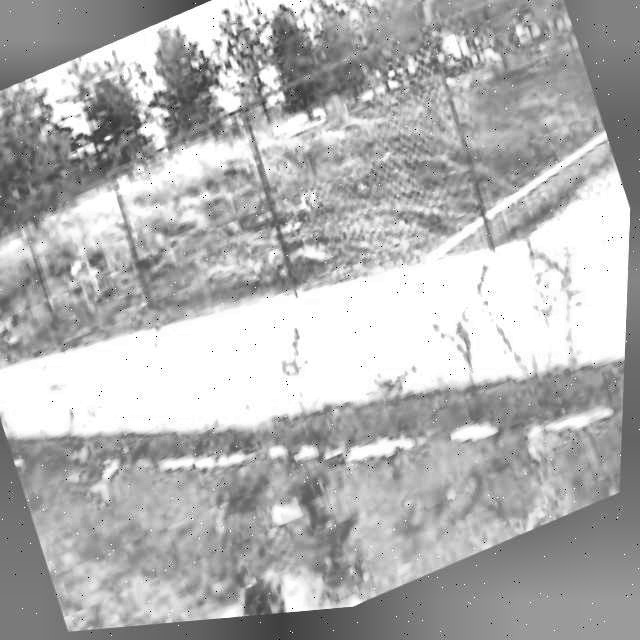Fire: (191, 552, 346, 625)
